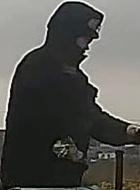gloves: (122, 121, 140, 146)
helmet: (83, 15, 102, 41)
vest: (0, 50, 96, 188)
